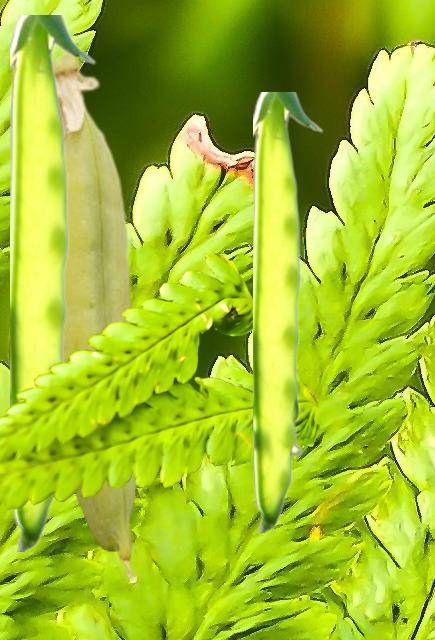pea: (10, 15, 95, 550), (54, 52, 139, 579), (253, 92, 322, 531)
